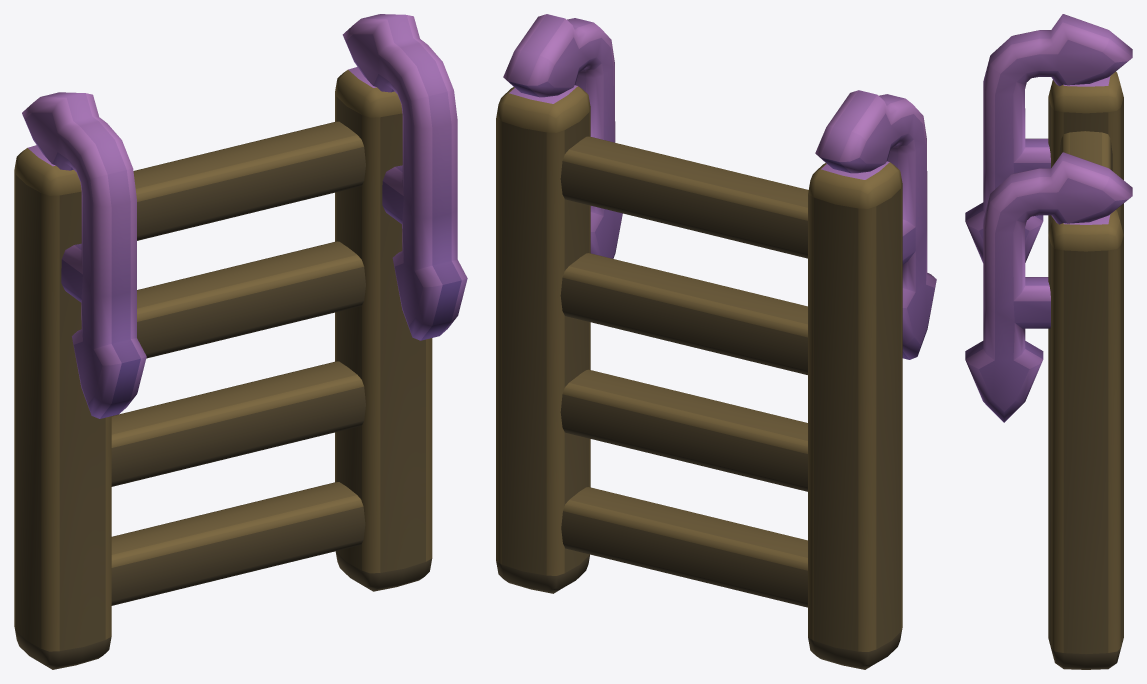
Rendered from SwampWood_Ladder_Top.fbx.
3 renders of one model, left to right at view 1: azimuth 30°, elevation 25°; view 2: azimuth 150°, elevation 25°; view 3: azimuth 270°, elevation 25°, orthographic. The views are drawn at different scales.
Parts seen in each view (by area): view 1: SwampWood_Ladder_Top_LOD0; view 2: SwampWood_Ladder_Top_LOD0; view 3: SwampWood_Ladder_Top_LOD0.
Part boxes in pixels (x1,y1,x2,y2): SwampWood_Ladder_Top_LOD0: [14, 14, 467, 669]; SwampWood_Ladder_Top_LOD0: [496, 14, 936, 669]; SwampWood_Ladder_Top_LOD0: [965, 14, 1132, 669].
Size of what is drawn, in the model's own units: 0.8613 by 1.19 by 0.3586.
